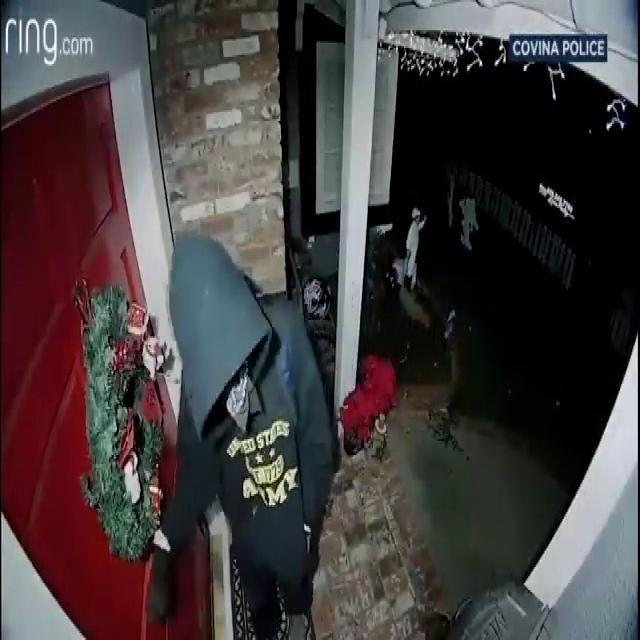4_capucha: (169, 232, 273, 447)
